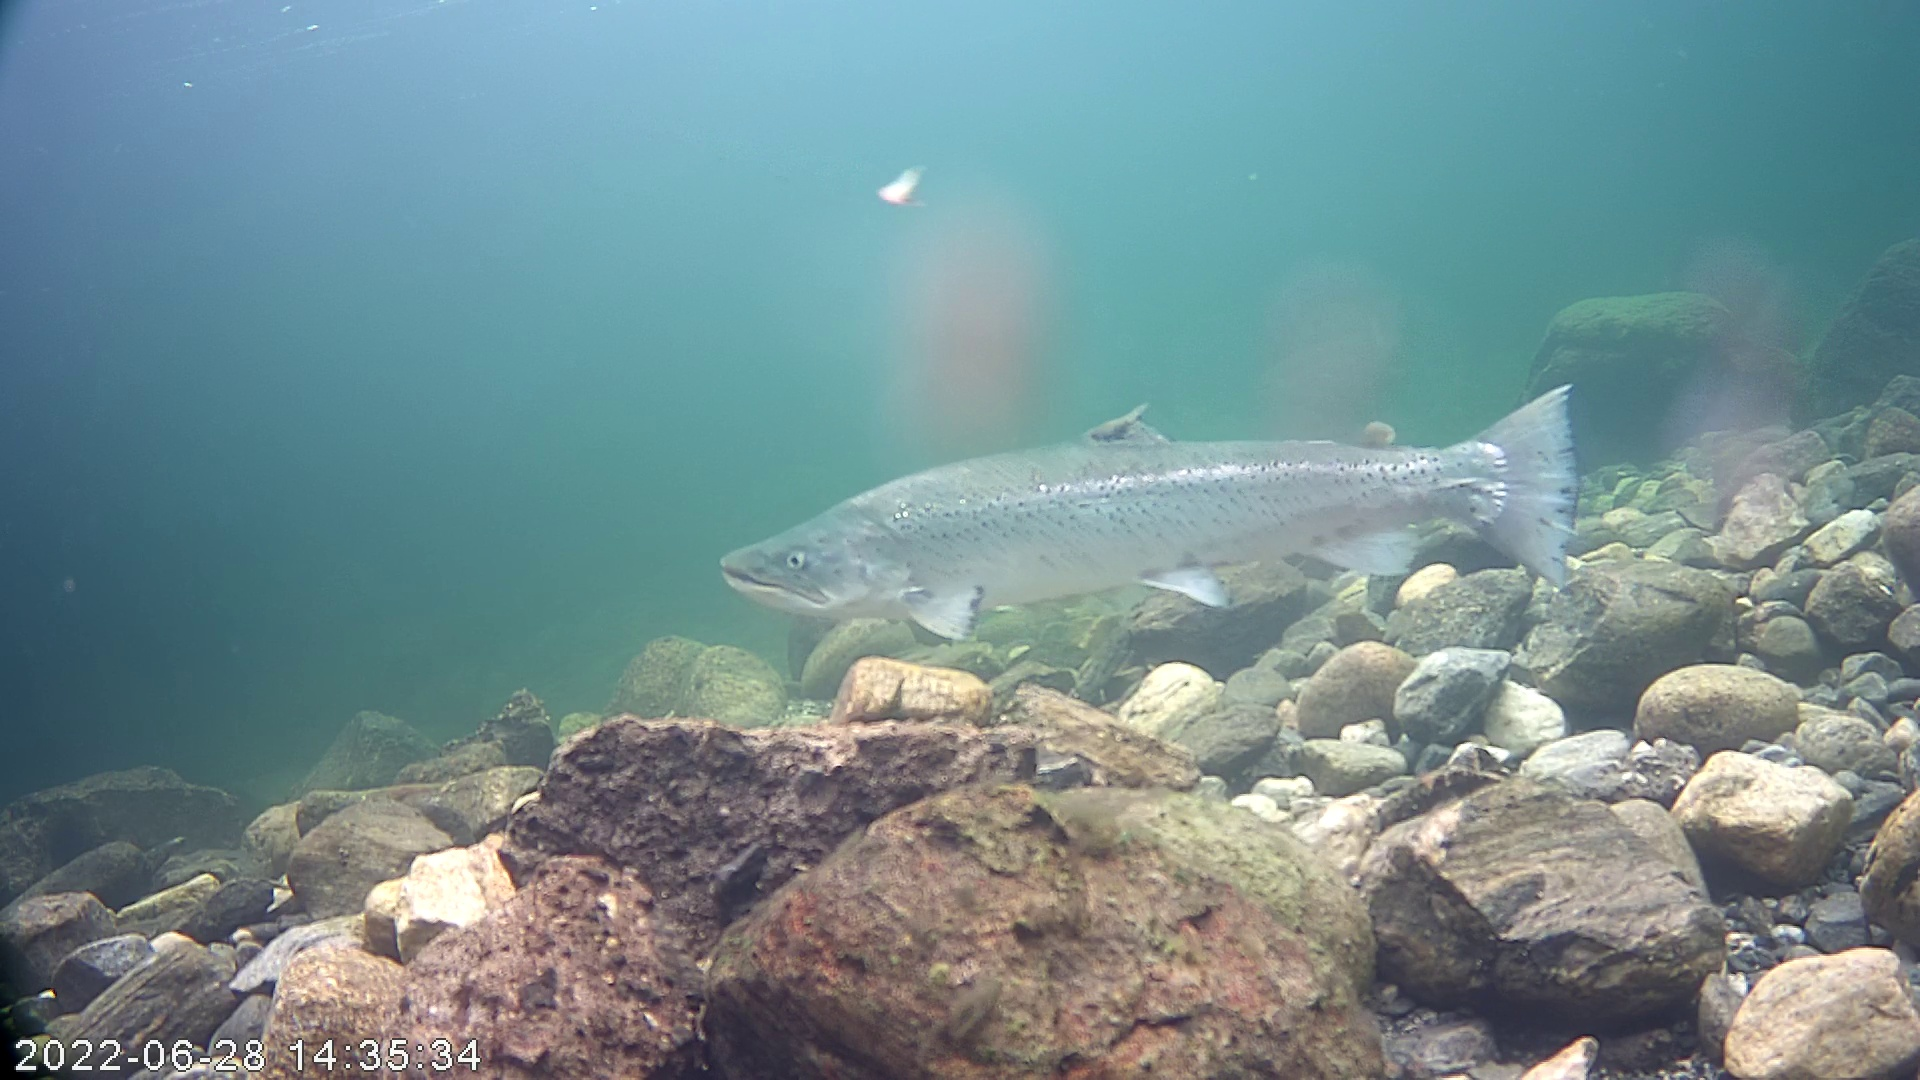salmon: (694, 298, 1613, 691)
